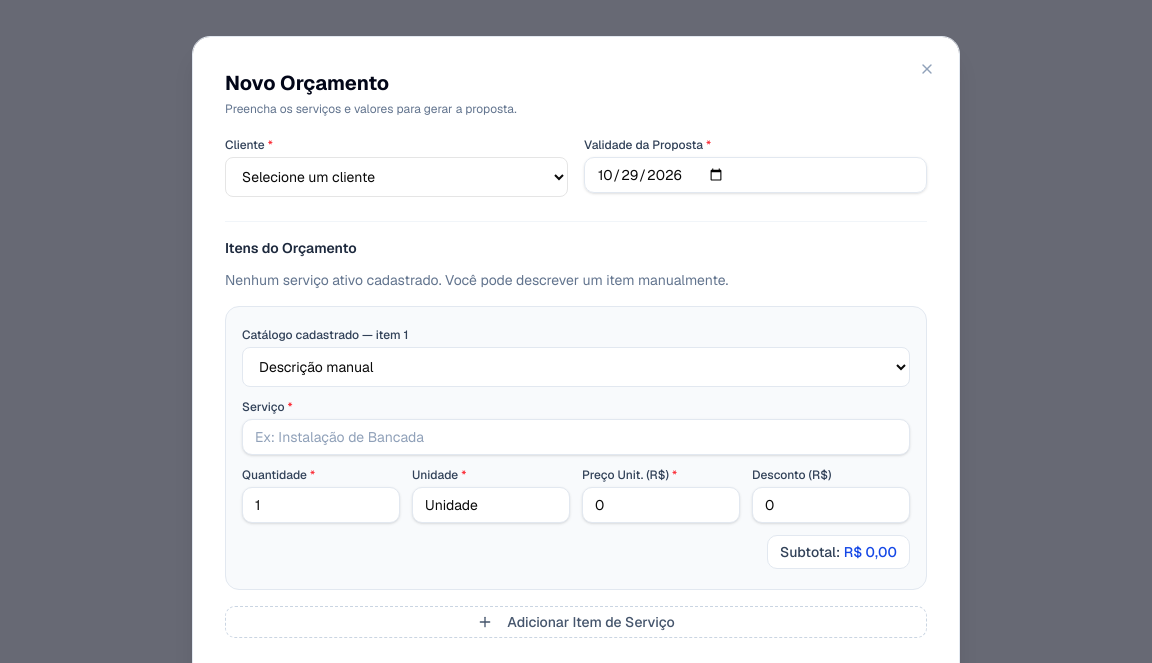
Scenario: QuotationModal › validates missing service name on submit
Select "Cliente Alpha" in the dropdown labelled "Cliente *" at (396, 177), box [225, 157, 568, 197]
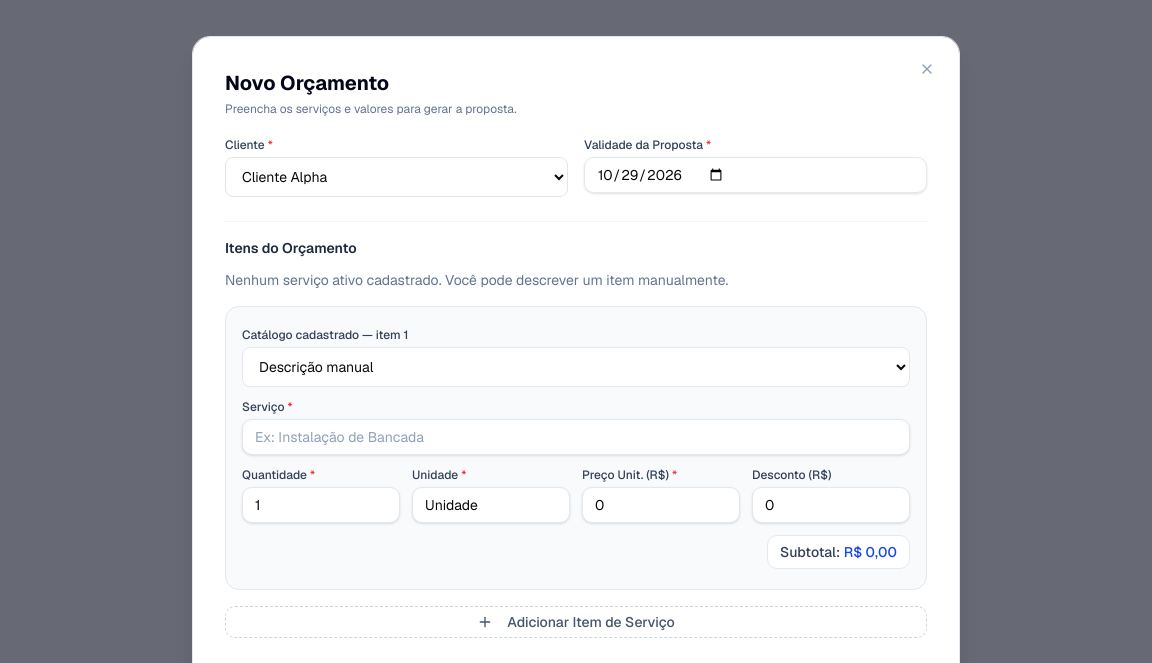
Replace the text in the number field labelled "Preço Unit. (R$) *" with "100" at (661, 505), box [582, 487, 740, 523]
(page scrolled)
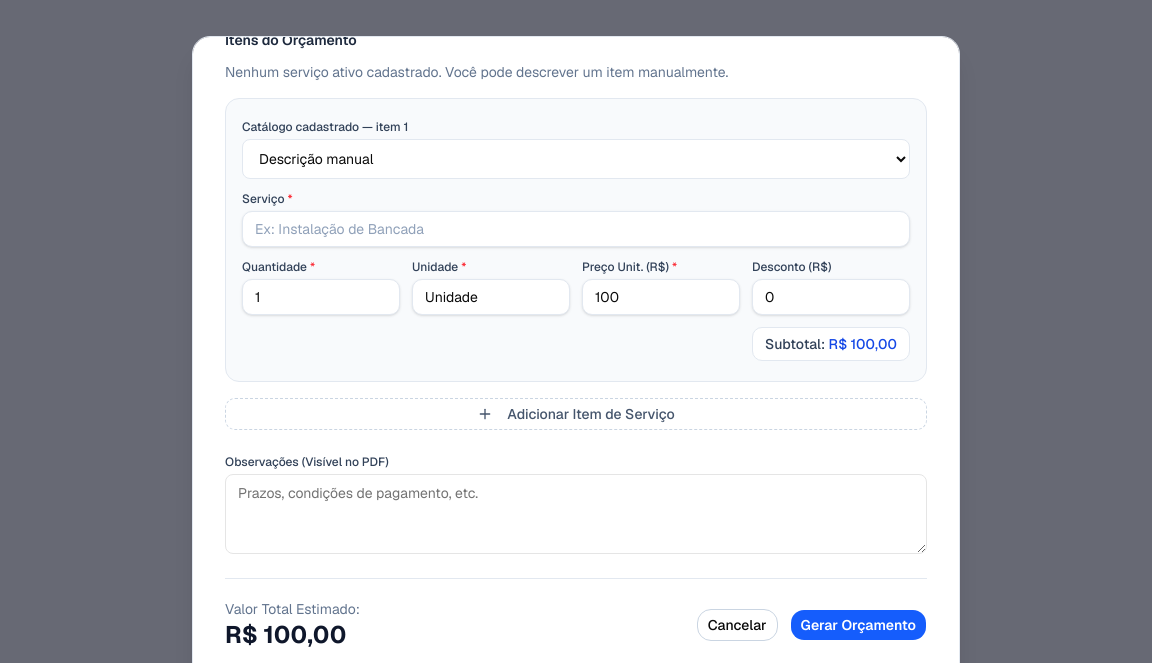
Click the button "Gerar Orçamento" at (858, 625), box [790, 609, 927, 641]
(page scrolled)
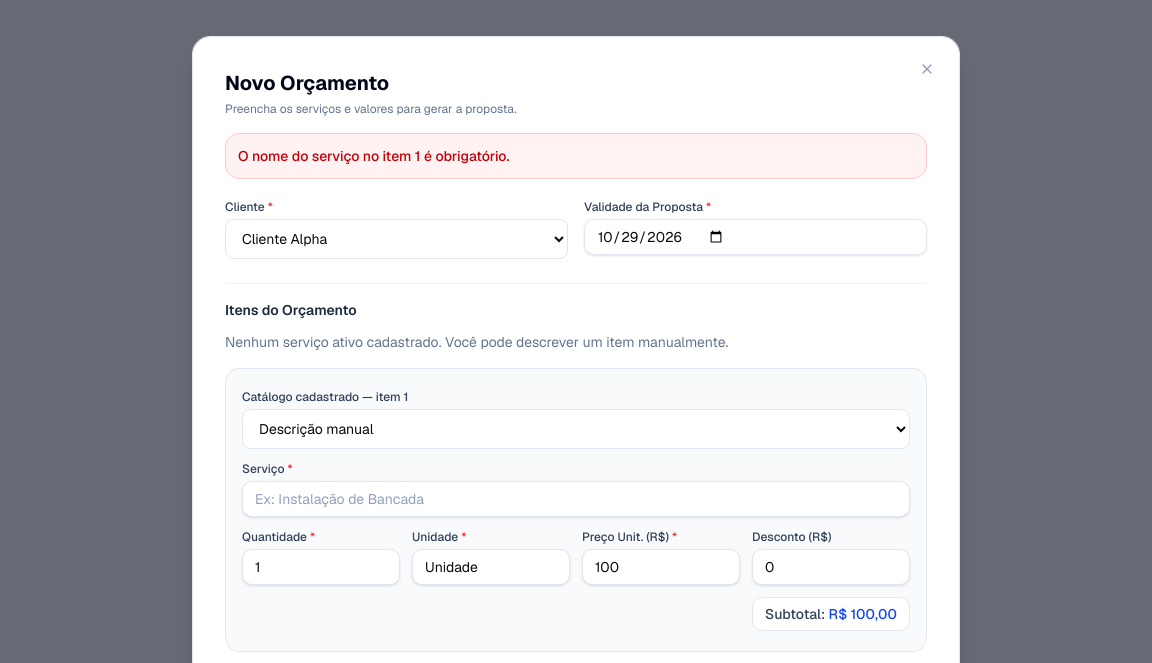
Expected: the message reads "O nome do serviço no item 1 é obrigatório.", [238, 147, 510, 165]
